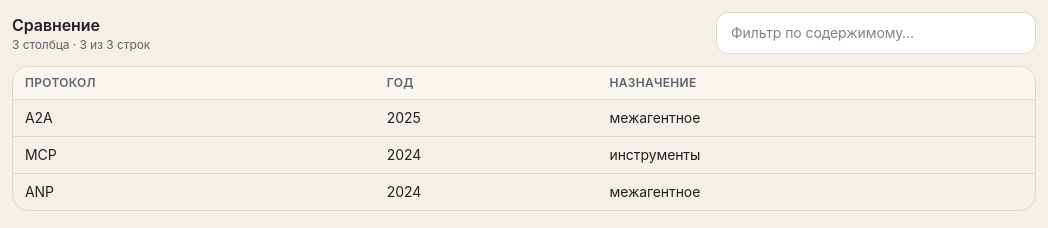
DataTableView › sorts by column when header is clicked; flips direction on second click
The width and height of the screenshot is (1048, 228).
Step 1. Click the column heading with test id "data-table-th-Протокол" → click(60, 82), box [13,67,375,100]
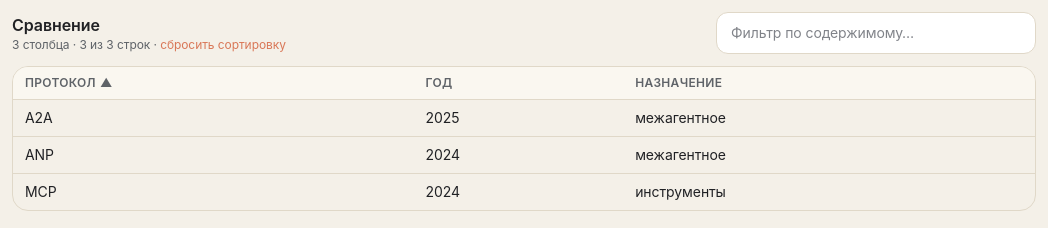
Check: the row "A2A 2025 межагентное" is shown, box [13,100,1035,136]
Check: the row "ANP 2024 межагентное" is shown, box [13,136,1035,174]
Check: the row "MCP 2024 инструменты" is shown, box [13,174,1035,210]
# Click again → descending
Step 2. Click the column heading with test id "data-table-th-Протокол" → click(60, 82), box [13,67,414,100]
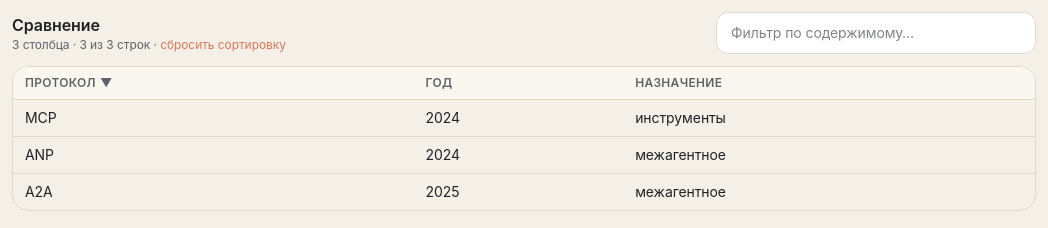
Check: the row "MCP 2024 инструменты" is shown, box [13,100,1035,136]
Check: the row "A2A 2025 межагентное" is shown, box [13,174,1035,210]
